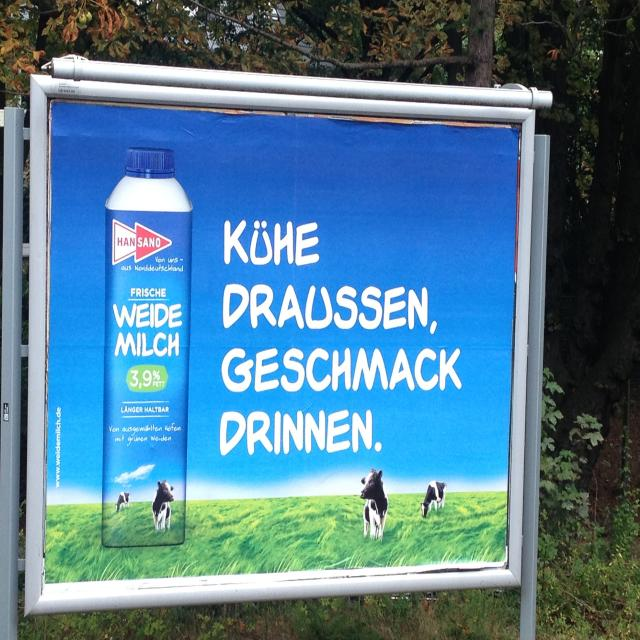Werbetafel frei: (7, 61, 552, 619)
